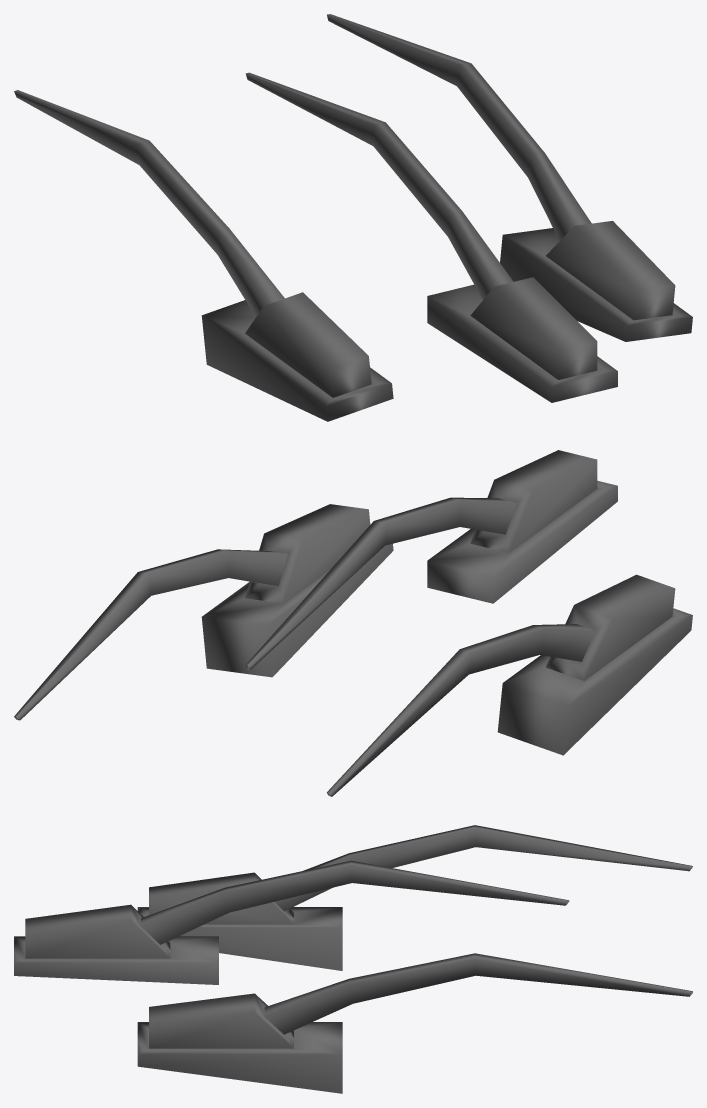
Rendered from Sleek_low.fbx.
3 renders of one model, top to bottom at view 1: azimuth 30°, elevation 25°; view 2: azimuth 150°, elevation 25°; view 3: azimuth 270°, elevation 25°, orthographic. The views are drawn at different scales.
Visible parts, largest first — view 1: Sleek_low; view 2: Sleek_low; view 3: Sleek_low.
Boxes of the visible parts, bbox=[...] form: Sleek_low: bbox=[14, 14, 692, 421]; Sleek_low: bbox=[14, 450, 692, 796]; Sleek_low: bbox=[14, 825, 692, 1093].
Bounding box in the file's own units: 48.36 × 24.39 × 94.25.
